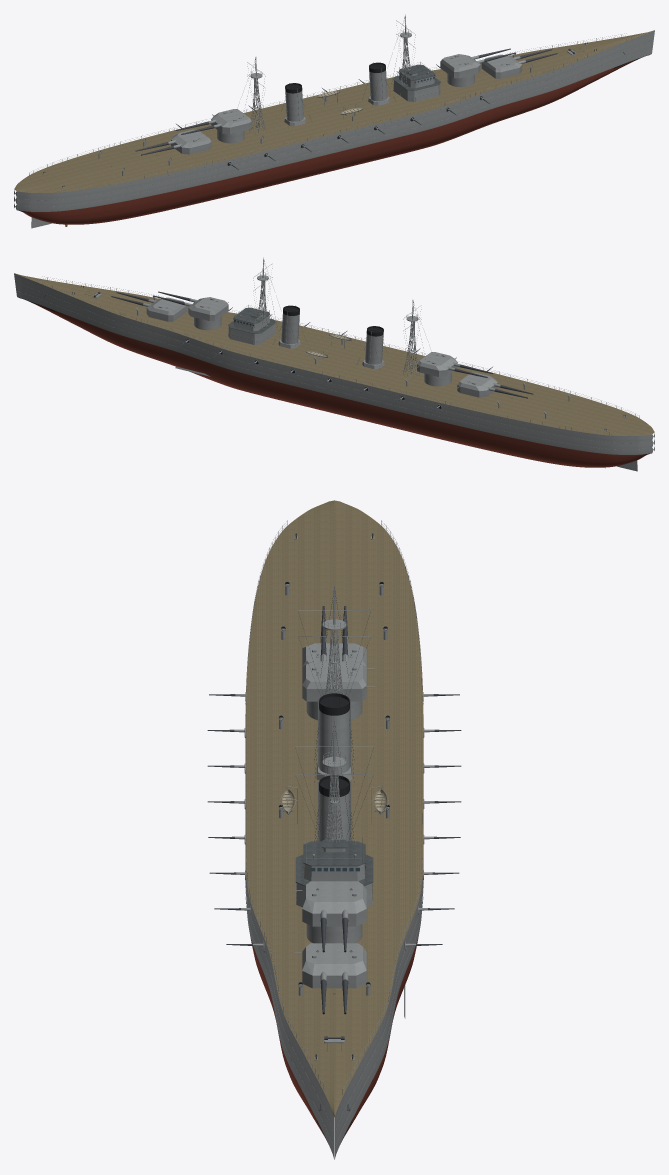
Rendered from lexington_cc.glb.
3 renders of one model, top to bottom at view 1: azimuth 30°, elevation 25°; view 2: azimuth 150°, elevation 25°; view 3: azimuth 270°, elevation 25°, orthographic. The views are drawn at different scales.
Visible parts, largest first — view 1: Lexington class (battlecruiser); view 2: Lexington class (battlecruiser); view 3: Lexington class (battlecruiser).
Boxes of the visible parts, x1,y1,x2,y2 form: Lexington class (battlecruiser): [14, 14, 654, 228]; Lexington class (battlecruiser): [14, 257, 654, 471]; Lexington class (battlecruiser): [207, 500, 461, 1159].
Size of the model in its own units: 232 by 43.22 by 39.82.
9 materials, 8 textured.
